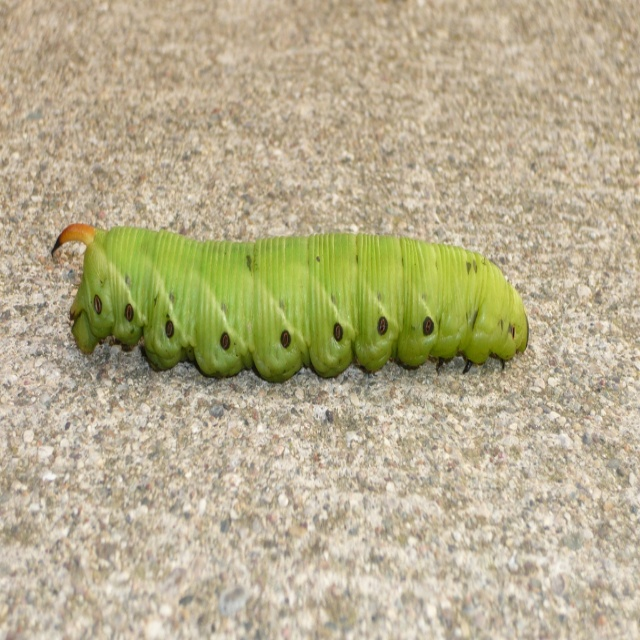Caterpillar: (51, 222, 528, 381)
